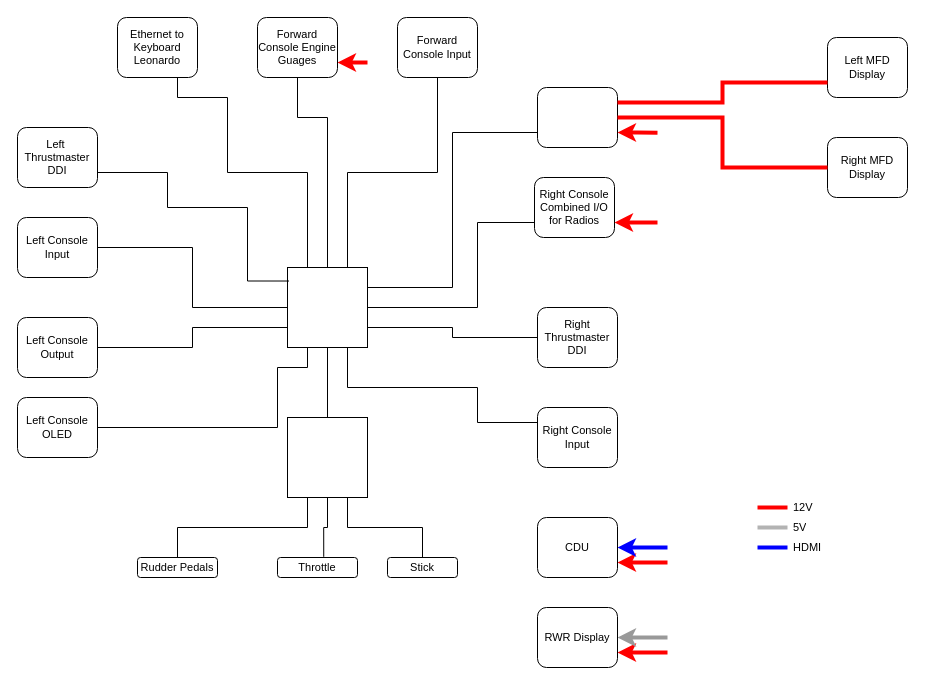
The diagram is 925 pixels wide and 685 high, and some of its shapes have lost their labels. The shapes that lost their labels are listed below. From the top down, each one's box as (x1, y1, x2, y2) in pixels, then its label:
(536, 86, 618, 148): Forward Console Steppers and Output
(286, 266, 368, 348): High Power USB Hub
(286, 416, 368, 498): USB Hub
